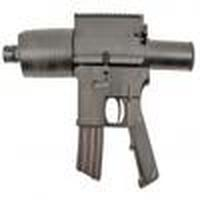gun: (1, 14, 198, 187)
